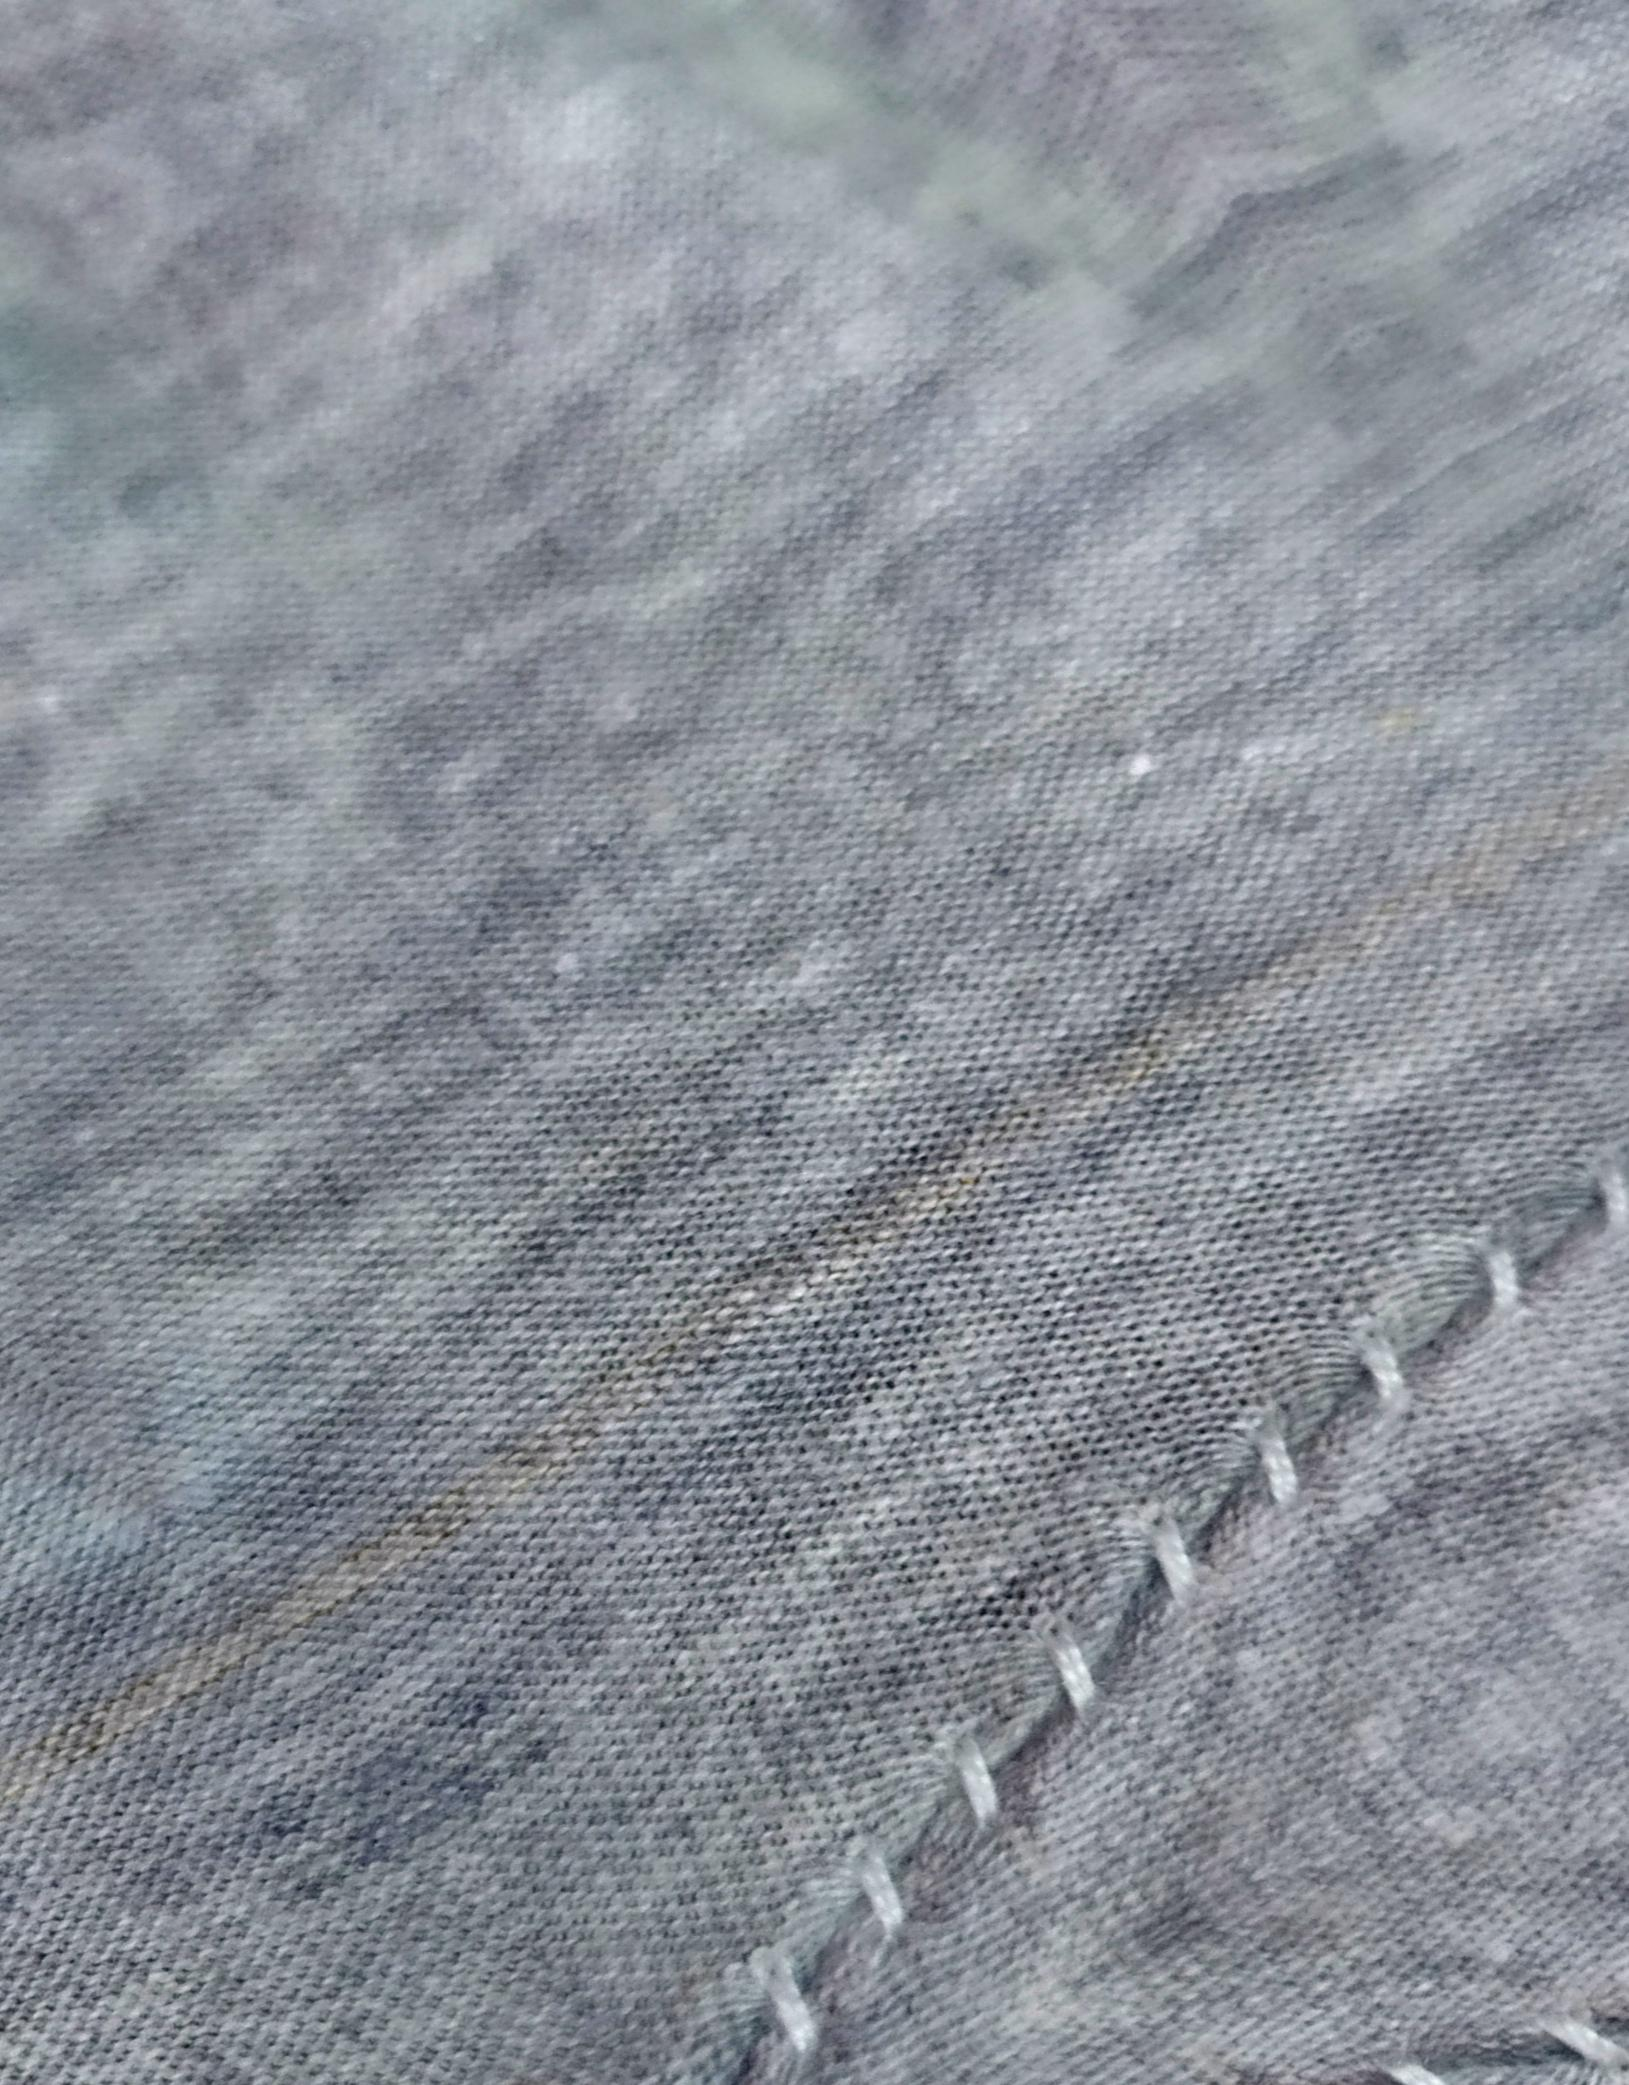slub: (704, 1163, 1624, 2085)
